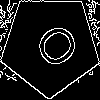O: (25, 20, 83, 77)
